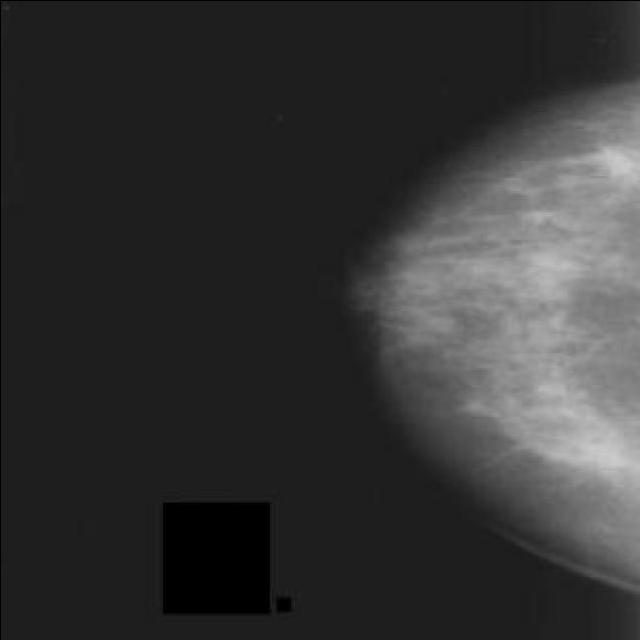tumor: (462, 351, 630, 484), (547, 131, 628, 232)
